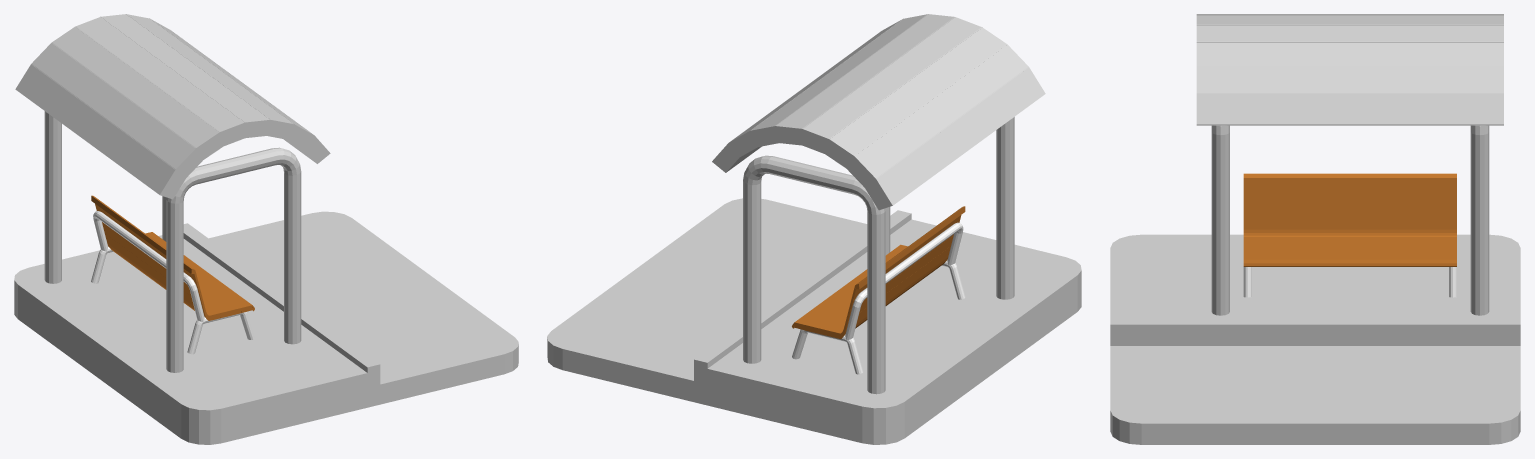
Rendered from bench1.fbx.
3 renders of one model, left to right at view 1: azimuth 30°, elevation 25°; view 2: azimuth 150°, elevation 25°; view 3: azimuth 270°, elevation 25°, orthographic. The views are drawn at different scales.
Visible parts, largest first — view 1: Plane, Cylinder, Plane.001, Vert, Plane.002, Plane.003, Vert.001; view 2: Plane, Cylinder, Plane.001, Vert, Plane.002, Plane.003, Vert.001; view 3: Cylinder, Plane, Plane.001, Plane.002, Plane.003, Vert, Vert.001.
Boxes of the visible parts, x1,y1,x2,y2 form: Plane: (14, 235, 518, 444); Cylinder: (15, 14, 330, 199); Plane.001: (209, 211, 518, 384); Vert: (44, 111, 301, 372); Plane.002: (91, 195, 254, 320); Plane.003: (183, 223, 380, 387); Vert.001: (91, 211, 254, 354); Plane: (547, 219, 1081, 444); Cylinder: (712, 14, 1045, 210); Plane.001: (547, 198, 867, 380); Vert: (743, 117, 1014, 394); Plane.002: (792, 206, 965, 338); Plane.003: (694, 210, 911, 384); Vert.001: (792, 222, 965, 374); Cylinder: (1196, 14, 1503, 125); Plane: (1110, 234, 1520, 444); Plane.001: (1110, 346, 1520, 423); Plane.002: (1243, 173, 1456, 266); Plane.003: (1110, 317, 1520, 345); Vert: (1211, 125, 1489, 315); Vert.001: (1243, 267, 1456, 297).
Bounding box in the file's own units: 400 × 316 × 400.
